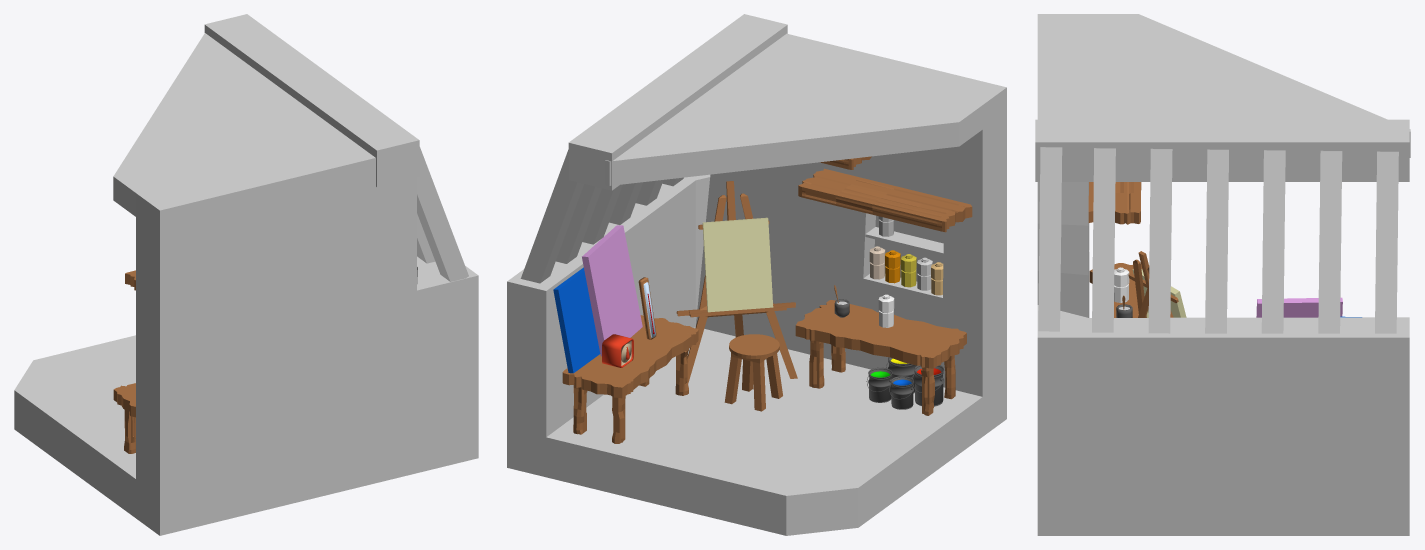
Rendered from blenderProto2.glb.
3 views of the same model, side by side, from view 1: azimuth 30°, elevation 25°; view 2: azimuth 150°, elevation 25°; view 3: azimuth 270°, elevation 25° (orthographic). The views are drawn at different scales.
Parts seen in each view (by area): view 1: mur et sol, poutre fondation toit, poutres, table_droite; view 2: mur et sol, poutre fondation toit, table_droite, poutres, table_gauche, toile, Cube.001, toile.002, Cylinder.002, toile.001, chevalet, minuteur (+4 smaller); view 3: mur et sol, poutres, poutre fondation toit, Cube, chevalet, toile.002, table_droite, lait.
Part boxes in pixels (x1=…): mur et sol: x1=14, y1=33, x2=478, y2=535; poutre fondation toit: x1=204, y1=14, x2=419, y2=187; poutres: x1=417, y1=147, x2=468, y2=281; table_droite: x1=113, y1=383, x2=135, y2=453; mur et sol: x1=507, y1=33, x2=1006, y2=535; poutre fondation toit: x1=568, y1=14, x2=787, y2=190; table_droite: x1=795, y1=300, x2=966, y2=415; poutres: x1=520, y1=149, x2=683, y2=283; table_gauche: x1=562, y1=315, x2=698, y2=443; toile: x1=702, y1=217, x2=773, y2=312; Cube.001: x1=798, y1=168, x2=972, y2=232; toile.002: x1=582, y1=225, x2=642, y2=356; Cylinder.002: x1=724, y1=334, x2=782, y2=411; toile.001: x1=553, y1=267, x2=600, y2=373; chevalet: x1=676, y1=181, x2=797, y2=383; minuteur: x1=602, y1=334, x2=633, y2=367; mur et sol: x1=1037, y1=14, x2=1410, y2=535; poutres: x1=1038, y1=147, x2=1398, y2=333; poutre fondation toit: x1=1035, y1=119, x2=1409, y2=181; Cube: x1=1088, y1=182, x2=1141, y2=224; chevalet: x1=1128, y1=251, x2=1178, y2=317; toile.002: x1=1256, y1=297, x2=1342, y2=317; table_droite: x1=1089, y1=263, x2=1149, y2=317; lait: x1=1114, y1=267, x2=1129, y2=302.
Bounding box in the file's own units: 4.42 × 4.42 × 4.15.
